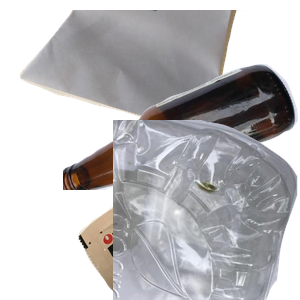glass: (63, 62, 300, 242)
paper: (17, 10, 254, 141)
plastic: (113, 120, 300, 300)
trash: (76, 170, 300, 300)
